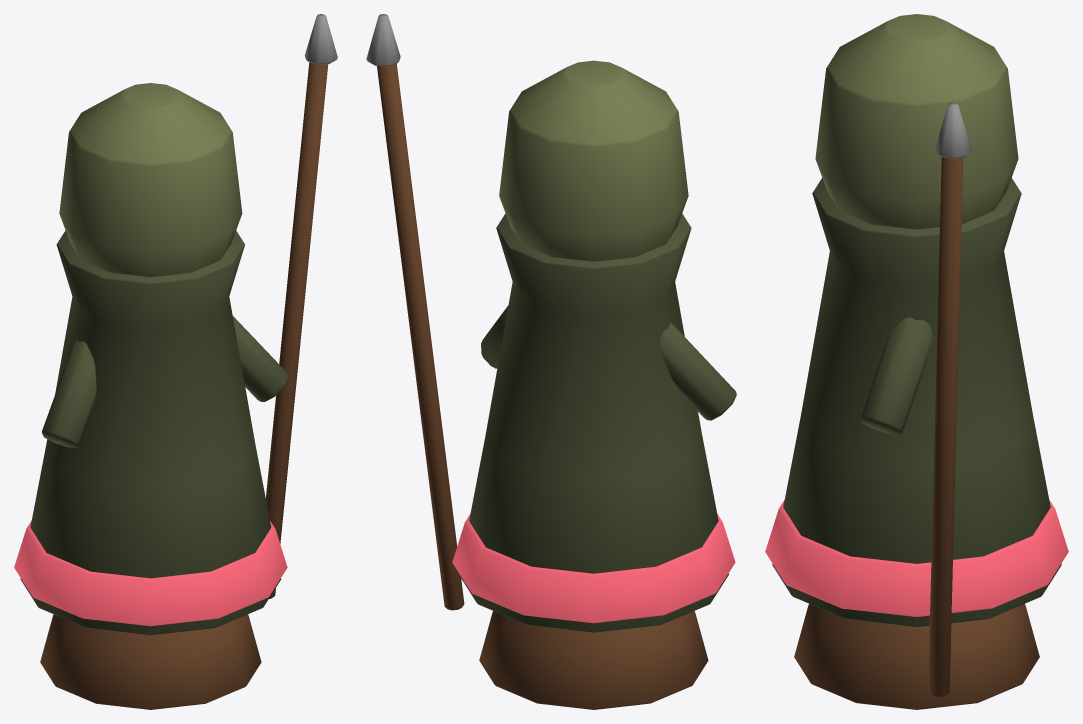
The model's file is enemy_styx_ferryman.glb.
3 renders of one model, left to right at view 1: azimuth 30°, elevation 25°; view 2: azimuth 150°, elevation 25°; view 3: azimuth 270°, elevation 25°, orthographic. The views are drawn at different scales.
Visible parts, largest first — view 1: FERRYMAN__robe, FERRYMAN__hood, FERRYMAN__skiff, FERRYMAN__hem, FERRYMAN__pole, FERRYMAN__arm, FERRYMAN__arm.001, FERRYMAN__pole_tip; view 2: FERRYMAN__robe, FERRYMAN__hood, FERRYMAN__skiff, FERRYMAN__hem, FERRYMAN__pole, FERRYMAN__arm, FERRYMAN__pole_tip, FERRYMAN__arm.001; view 3: FERRYMAN__robe, FERRYMAN__hood, FERRYMAN__skiff, FERRYMAN__hem, FERRYMAN__pole, FERRYMAN__arm.001, FERRYMAN__pole_tip.
Boxes of the visible parts, <box> form: FERRYMAN__robe: <box>20,230,281,635</box>; FERRYMAN__hood: <box>59,83,242,277</box>; FERRYMAN__skiff: <box>40,614,261,709</box>; FERRYMAN__hem: <box>14,520,287,626</box>; FERRYMAN__pole: <box>265,62,328,598</box>; FERRYMAN__arm: <box>42,339,96,448</box>; FERRYMAN__arm.001: <box>233,316,288,401</box>; FERRYMAN__pole_tip: <box>304,14,337,64</box>; FERRYMAN__robe: <box>459,213,728,632</box>; FERRYMAN__hood: <box>499,60,688,261</box>; FERRYMAN__skiff: <box>479,611,708,709</box>; FERRYMAN__hem: <box>452,514,735,623</box>; FERRYMAN__pole: <box>377,63,464,610</box>; FERRYMAN__arm: <box>660,323,736,420</box>; FERRYMAN__pole_tip: <box>366,14,400,66</box>; FERRYMAN__arm.001: <box>481,305,508,368</box>; FERRYMAN__robe: <box>772,178,1061,626</box>; FERRYMAN__hood: <box>815,14,1018,229</box>; FERRYMAN__skiff: <box>794,604,1039,709</box>; FERRYMAN__hem: <box>765,500,1068,616</box>; FERRYMAN__pole: <box>928,157,963,697</box>; FERRYMAN__arm.001: <box>861,317,932,434</box>; FERRYMAN__pole_tip: <box>934,102,971,158</box>.
Bounding box in the file's own units: 1.14 × 1.99 × 0.8372.
